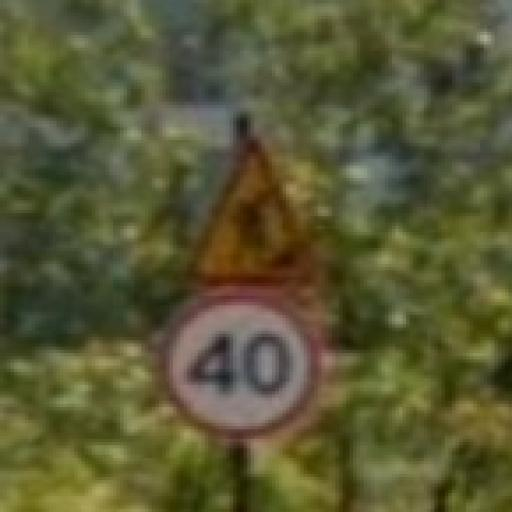traffic_sign: (160, 293, 322, 440), (188, 135, 322, 287)
